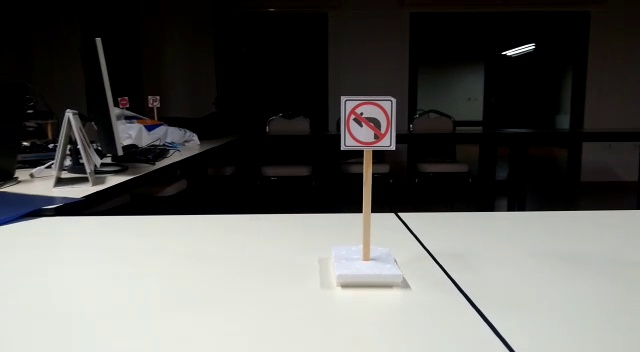sola_donulmez: (339, 100, 390, 148)
